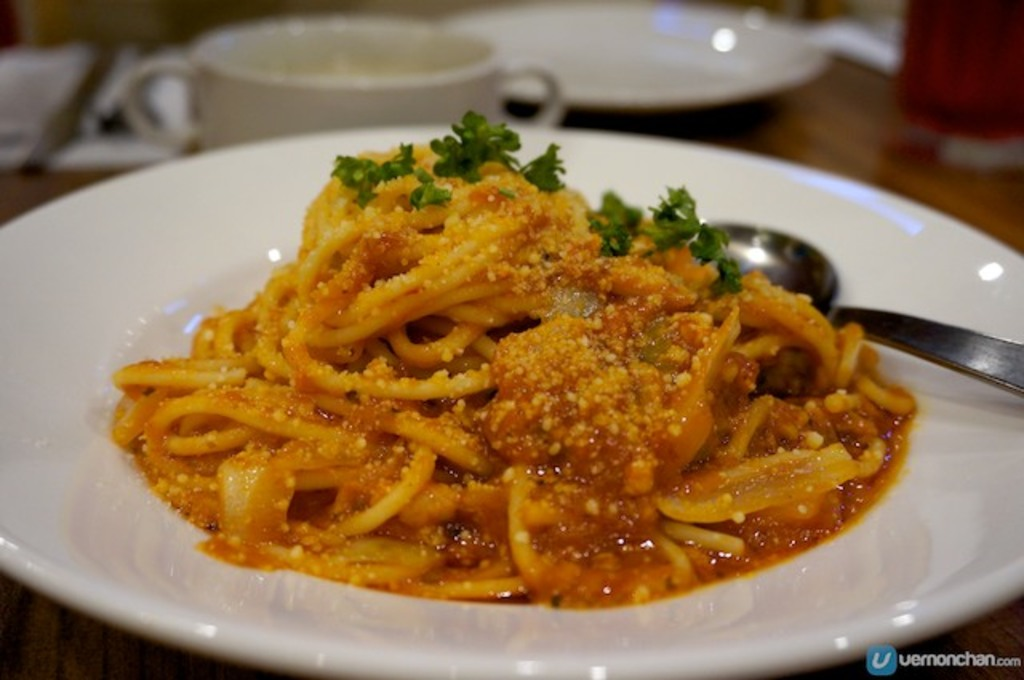pasta: (83, 141, 901, 608)
